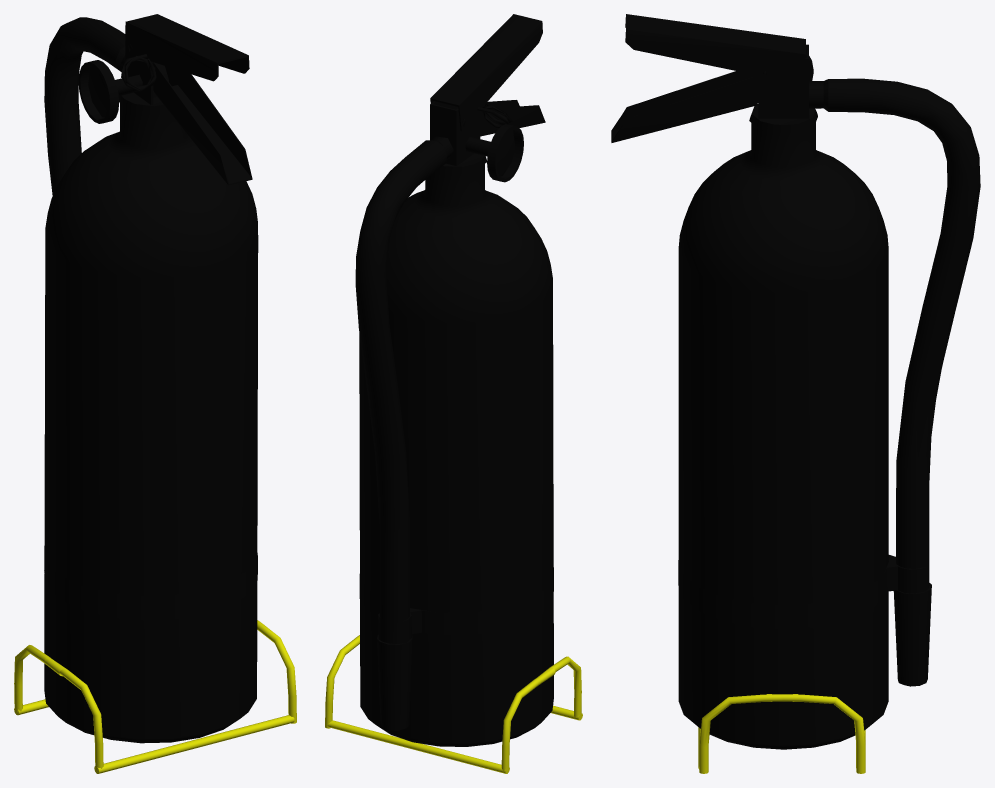
The model's file is SM_Fire2.fbx.
3 views of the same model, side by side, from view 1: azimuth 30°, elevation 25°; view 2: azimuth 150°, elevation 25°; view 3: azimuth 270°, elevation 25° (orthographic). The views are drawn at different scales.
Visible parts, largest first — view 1: SM_Fire3; view 2: SM_Fire3; view 3: SM_Fire3.
Boxes of the visible parts, <box> form: SM_Fire3: <box>14,14,296,773</box>; SM_Fire3: <box>325,14,582,773</box>; SM_Fire3: <box>611,14,980,773</box>.
Bounding box in the file's own units: 22.12 × 74.25 × 35.15.
